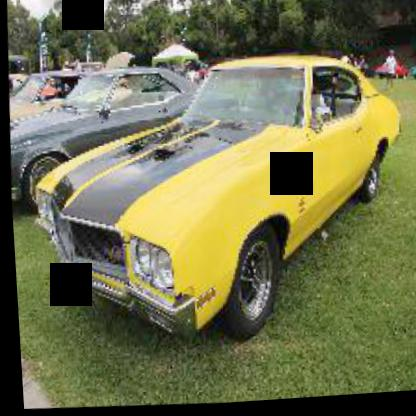not_emergency: (12, 38, 415, 381)
